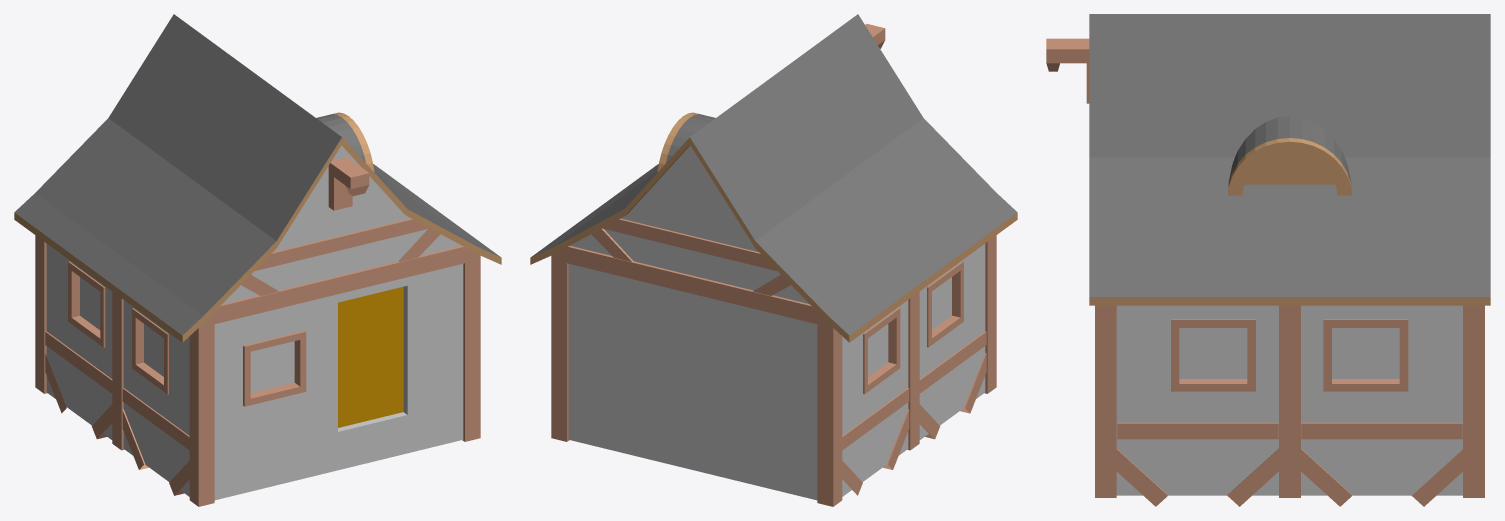
Rendered from GiantHouse.fbx.
3 views of the same model, side by side, from view 1: azimuth 30°, elevation 25°; view 2: azimuth 150°, elevation 25°; view 3: azimuth 270°, elevation 25° (orthographic). The views are drawn at different scales.
Visible parts, largest first — view 1: Cube; view 2: Cube; view 3: Cube.
Part boxes in pixels (<box>): Cube: <box>14,14,501,506</box>; Cube: <box>530,14,1017,506</box>; Cube: <box>1046,14,1490,506</box>.
Bounding box in the file's own units: 460 × 475 × 465.
